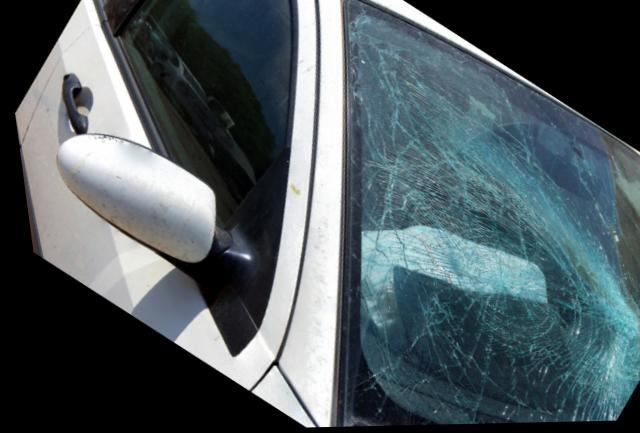glass shatter: (328, 1, 640, 428)
